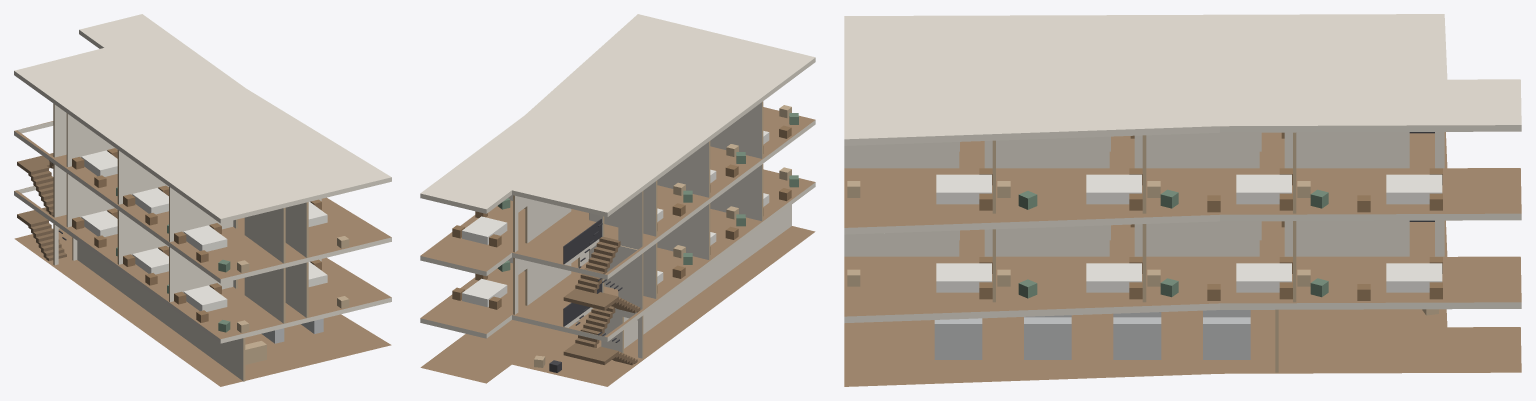
File: interior.glb
The picture shows the model from 3 angles, left to right: view 1: azimuth 30°, elevation 25°; view 2: azimuth 150°, elevation 25°; view 3: azimuth 270°, elevation 25°; orthographic projection. The views are drawn at different scales.
Parts seen in each view (by area): view 1: slabs, partitions, coarse-s1, coarse-s2, stair, coarse-s0; view 2: slabs, partitions, stair, coarse-s1, coarse-s2; view 3: slabs, partitions, coarse-s2, coarse-s1, coarse-s0.
Part boxes in pixels (<box>): slabs: <box>14,14,391,386</box>; partitions: <box>53,103,321,381</box>; coarse-s1: <box>72,208,349,332</box>; coarse-s2: <box>72,148,349,272</box>; stair: <box>17,153,66,260</box>; coarse-s0: <box>245,318,323,364</box>; slabs: <box>420,14,815,386</box>; partitions: <box>508,101,791,358</box>; stair: <box>563,219,640,365</box>; coarse-s1: <box>452,167,798,309</box>; coarse-s2: <box>452,105,798,247</box>; slabs: <box>844,14,1521,386</box>; partitions: <box>844,132,1444,372</box>; coarse-s2: <box>847,132,1442,212</box>; coarse-s1: <box>847,221,1442,300</box>; coarse-s0: <box>934,309,1438,359</box>.
Size of the model in its own units: 10.62 by 9.8 by 24.24.
